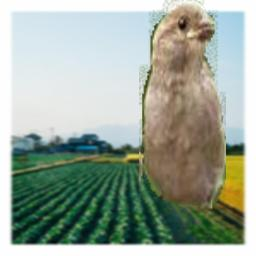Sparrow: (139, 0, 226, 256)
